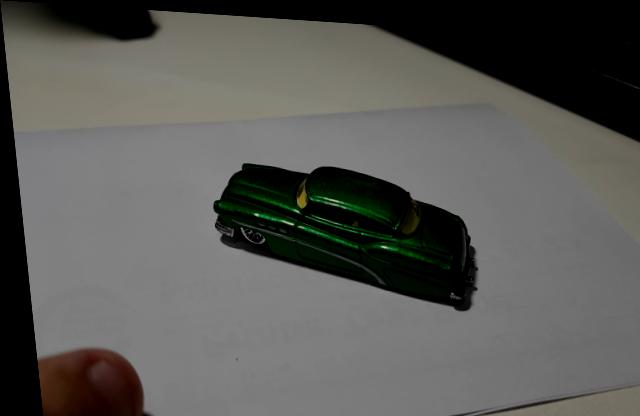06_MASERATI: (208, 160, 473, 306)
